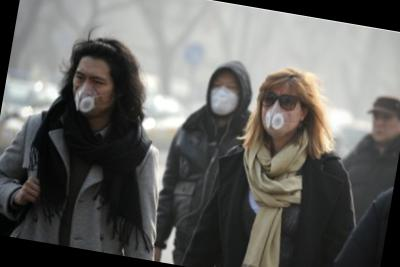with_mask: (67, 65, 115, 118), (259, 87, 305, 139), (206, 76, 241, 120)
without_mask: (368, 109, 400, 145)
